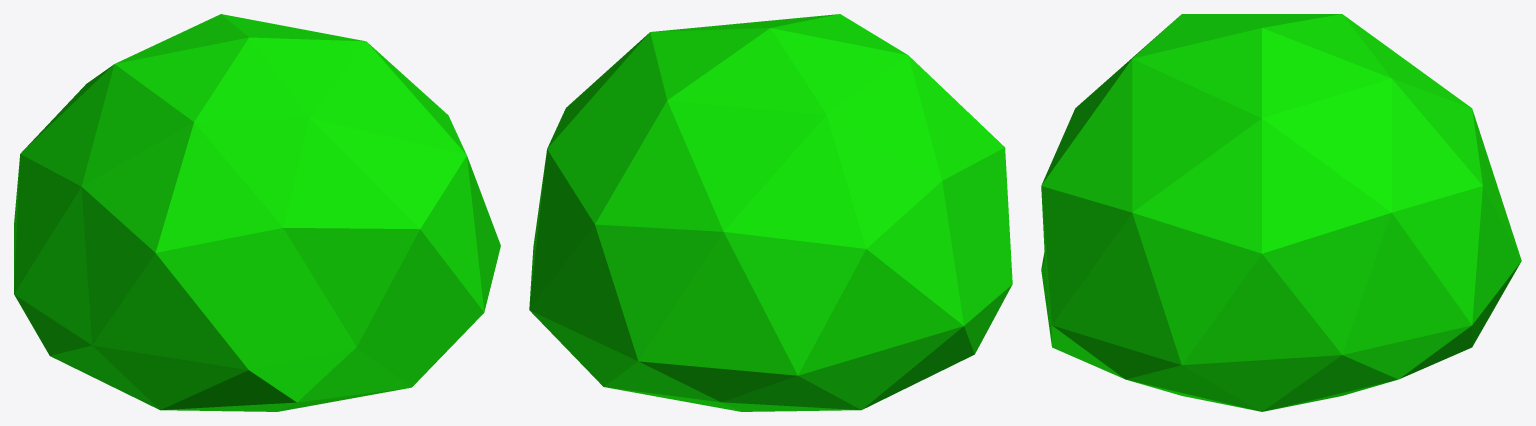
Rendered from berrybush-empty.glb.
The picture shows the model from 3 angles, left to right: view 1: azimuth 30°, elevation 25°; view 2: azimuth 150°, elevation 25°; view 3: azimuth 270°, elevation 25°; orthographic projection. The views are drawn at different scales.
Parts seen in each view (by area): view 1: Icosphere; view 2: Icosphere; view 3: Icosphere.
Boxes of the visible parts, box(x1,y1,x2,y2) form: Icosphere: box(14, 14, 500, 411); Icosphere: box(529, 14, 1012, 411); Icosphere: box(1041, 14, 1521, 411).
Bounding box in the file's own units: 1.9 × 1.41 × 1.85.
